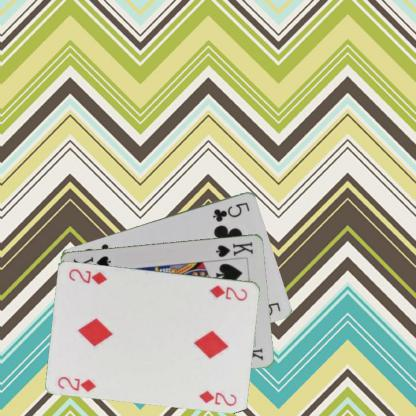2d: (53, 374, 98, 393), (207, 282, 249, 302)
5c: (210, 199, 251, 223)
Ks: (213, 239, 255, 258)
